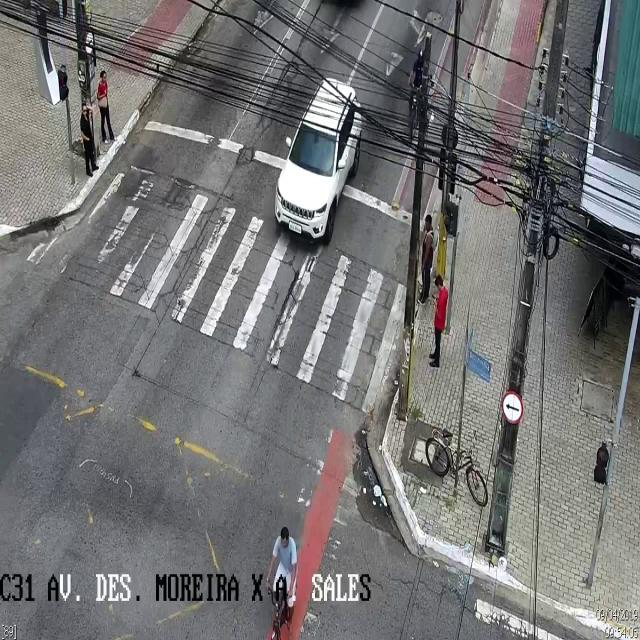Car: (273, 77, 361, 245)
